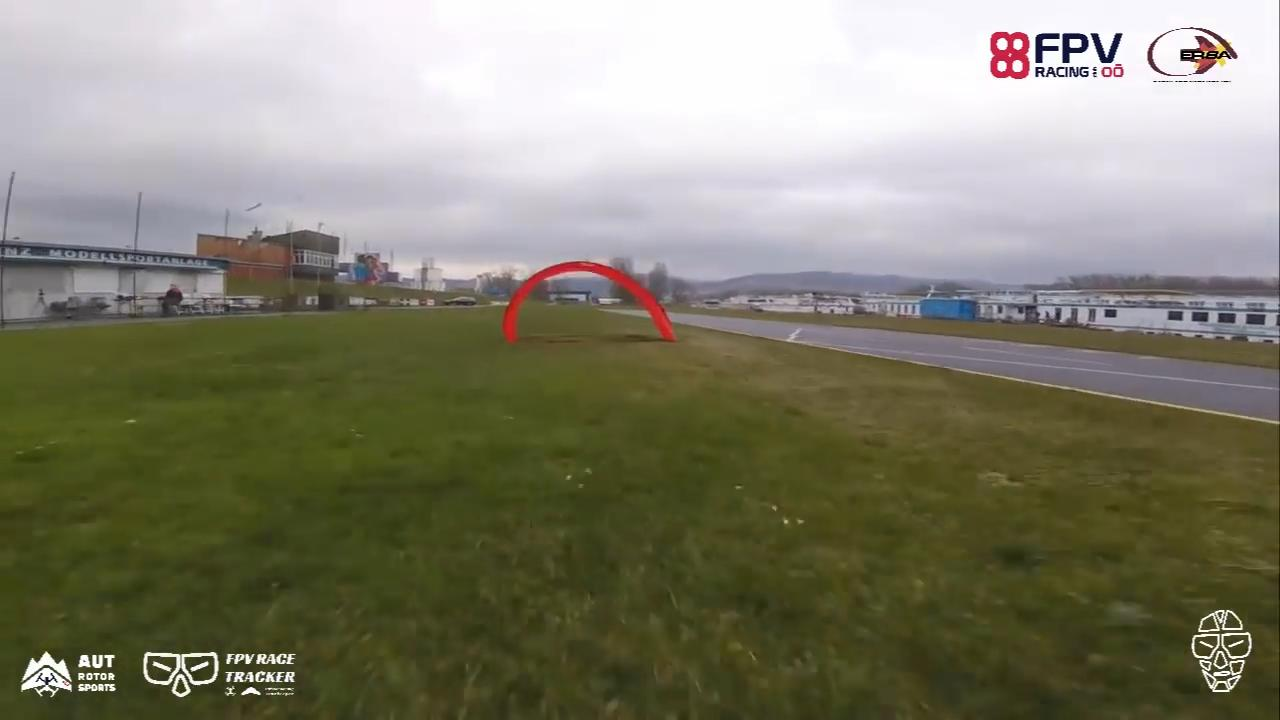gate: (499, 260, 676, 343)
